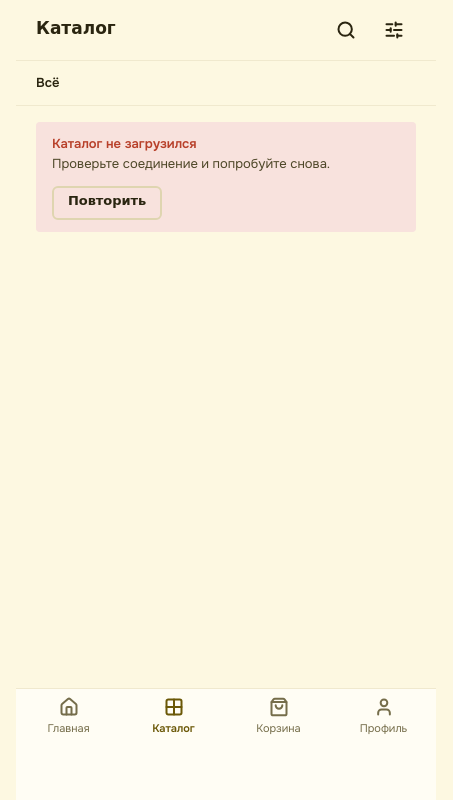
Test: CatalogScreen — сбой сети › показывает сообщение и повторяет запрос по кнопке
expect the text "Каталог не загрузился" is shown: met, box [52,134,197,152]
Click the button "Повторить": click(107, 203) [52,186,162,220]
(page scrolled)
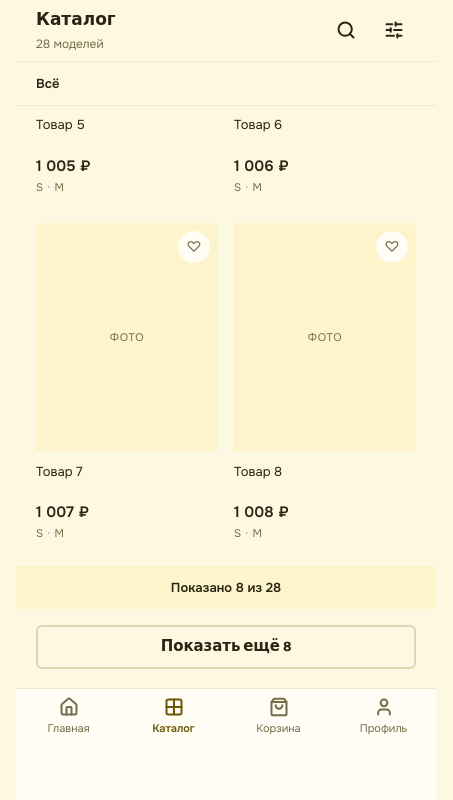
expect the text "Показано 8 из 28" is shown: met, box [171,578,281,597]
expect the text "Каталог не загрузился" is gone: met
